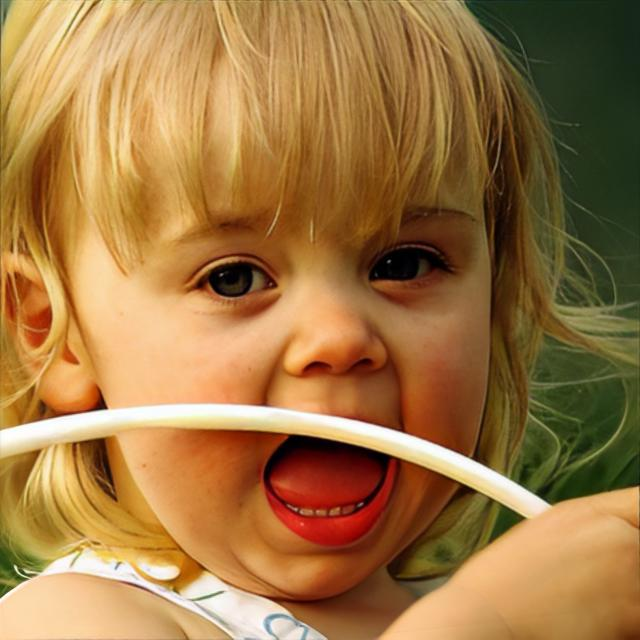surprise: (90, 82, 498, 603)
